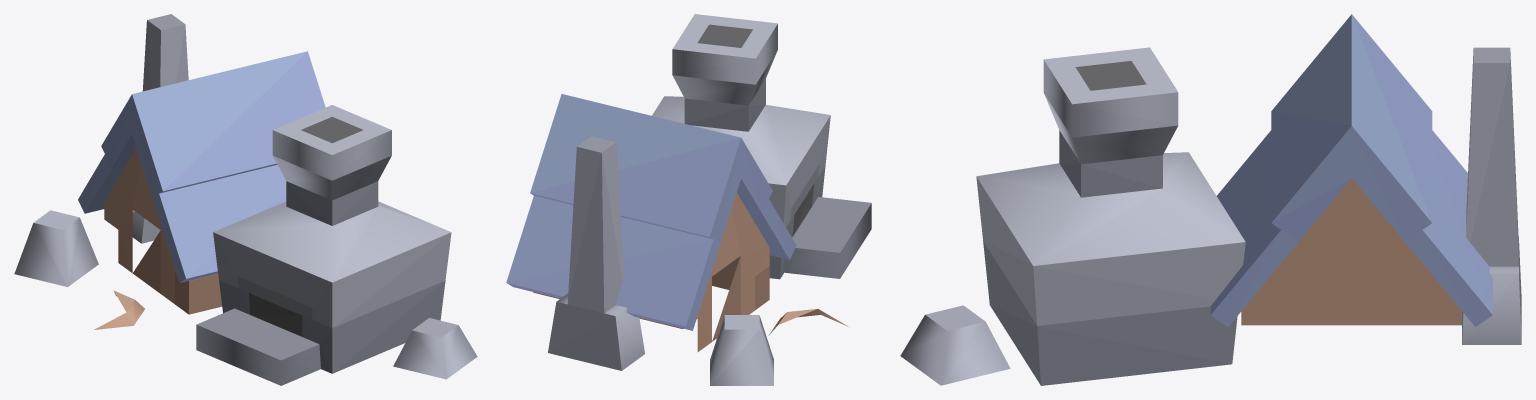
The model's file is building-smelter.glb.
3 views of the same model, side by side, from view 1: azimuth 30°, elevation 25°; view 2: azimuth 150°, elevation 25°; view 3: azimuth 270°, elevation 25° (orthographic). The views are drawn at different scales.
Visible parts, largest first — view 1: building-smelter; view 2: building-smelter; view 3: building-smelter.
Part boxes in pixels (left/top/right/bottom): building-smelter: left=14, top=14, right=477, bottom=385; building-smelter: left=506, top=14, right=871, bottom=385; building-smelter: left=900, top=14, right=1521, bottom=385.
Size of the model in its own units: 0.5574 by 0.4 by 0.8449.
